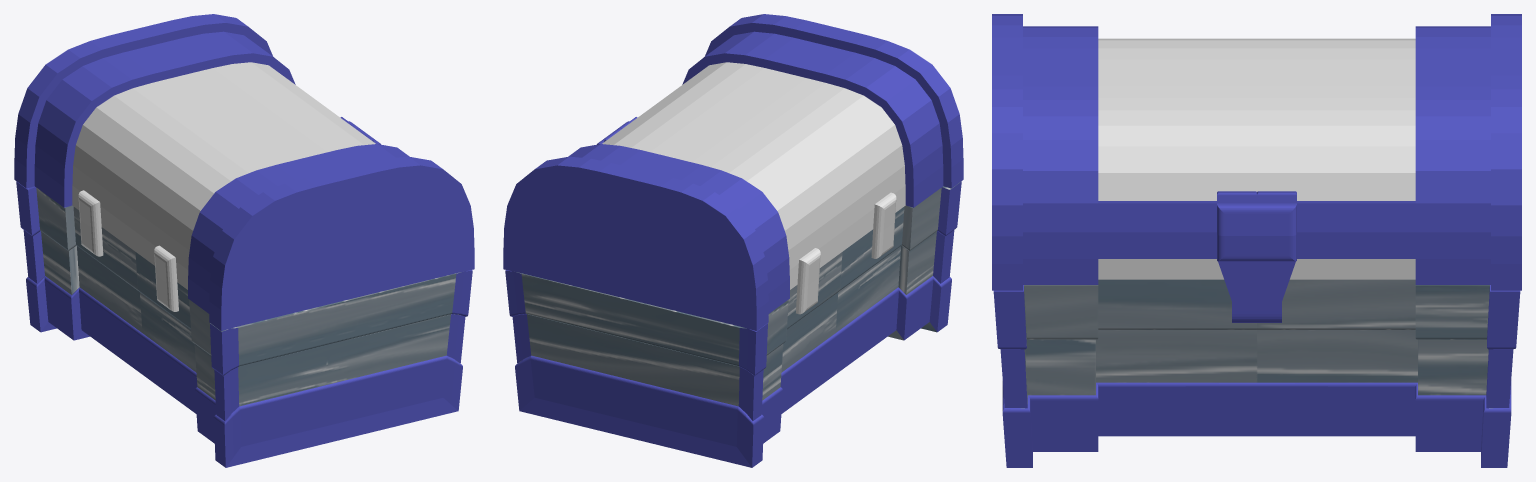
Rendered from Chest2.fbx.
3 views of the same model, side by side, from view 1: azimuth 30°, elevation 25°; view 2: azimuth 150°, elevation 25°; view 3: azimuth 270°, elevation 25° (orthographic). The views are drawn at different scales.
Parts seen in each view (by area): view 1: MediumChestLid, MediumChest, Cube.006; view 2: MediumChestLid, MediumChest, Cube.006; view 3: MediumChestLid, MediumChest.
Part boxes in pixels (x1,y1,x2,y2): MediumChestLid: (14,14,474,330); MediumChest: (16,181,472,467); Cube.006: (78,190,178,311); MediumChestLid: (503,14,963,330); MediumChest: (505,181,961,467); Cube.006: (796,192,896,314); MediumChestLid: (992,14,1521,322); MediumChest: (993,279,1520,467).
Bounding box in the file's own units: 152 × 152 × 215.
